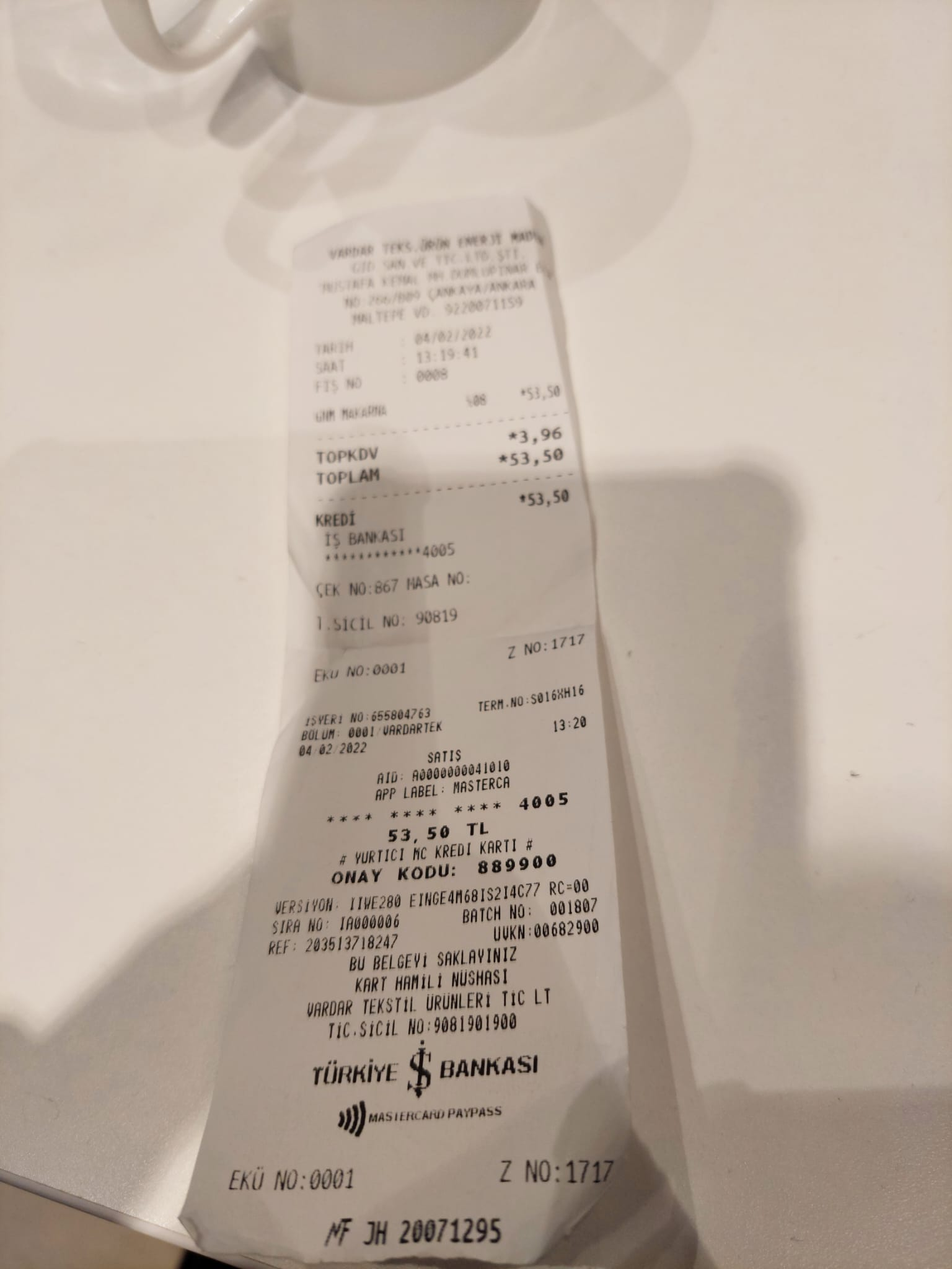date: (506, 445, 569, 468)
price: (410, 319, 499, 345)
workplace: (316, 226, 557, 304)
